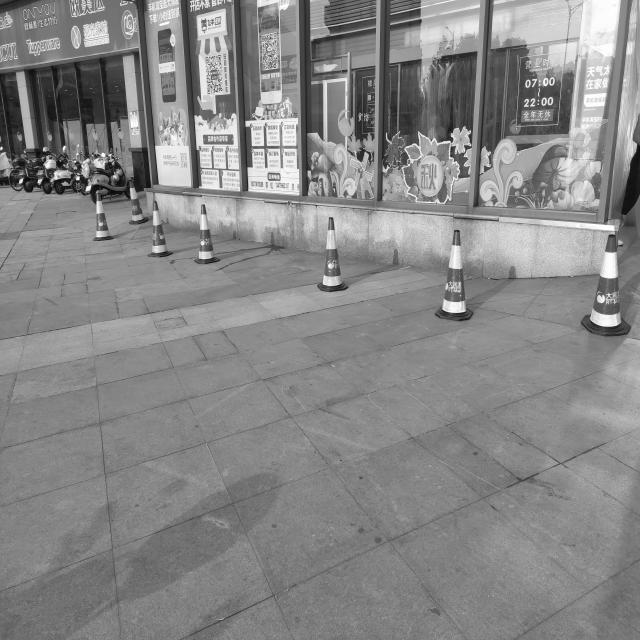motorbike: (82, 147, 132, 204), (45, 158, 70, 194), (12, 156, 36, 192)
reflective_cone: (581, 234, 631, 337), (434, 229, 474, 321), (316, 216, 348, 292), (194, 204, 220, 265), (146, 201, 172, 257), (92, 193, 114, 241), (127, 180, 149, 224)
